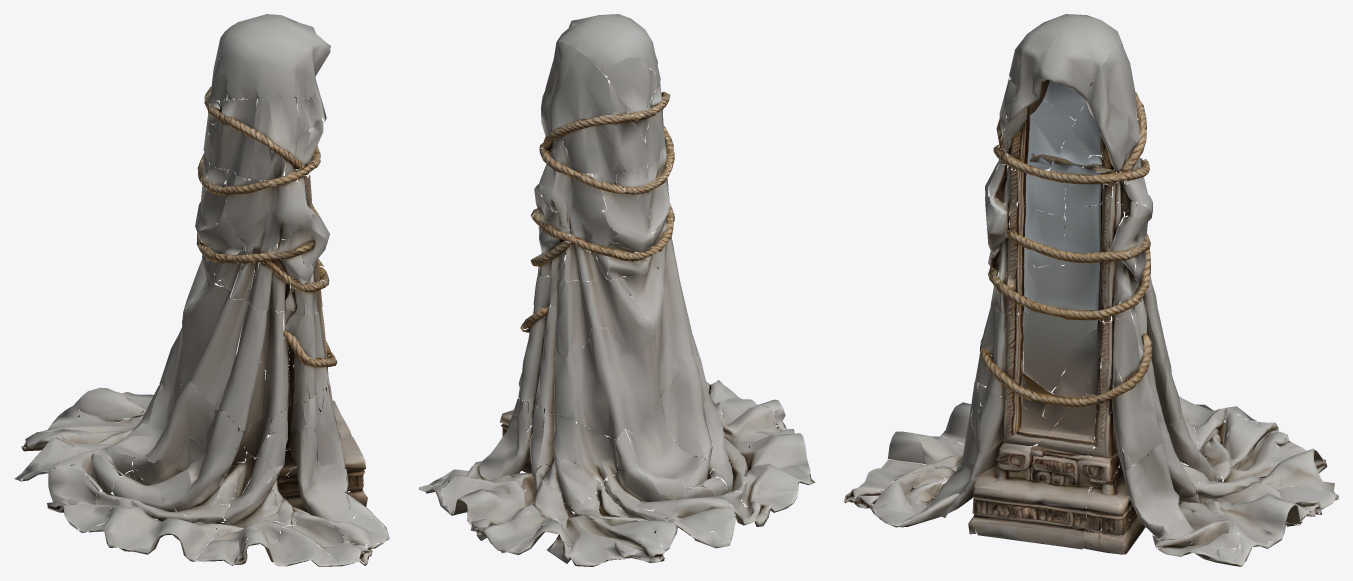
The model's file is shroud_a.glb.
3 views of the same model, side by side, from view 1: azimuth 30°, elevation 25°; view 2: azimuth 150°, elevation 25°; view 3: azimuth 270°, elevation 25° (orthographic). The views are drawn at different scales.
Visible parts, largest first — view 1: tripo_node_e4f2dbbe-06f9-4dea-ab70-920204412981; view 2: tripo_node_e4f2dbbe-06f9-4dea-ab70-920204412981; view 3: tripo_node_e4f2dbbe-06f9-4dea-ab70-920204412981.
Part boxes in pixels (<box>): tripo_node_e4f2dbbe-06f9-4dea-ab70-920204412981: <box>14,14,389,566</box>; tripo_node_e4f2dbbe-06f9-4dea-ab70-920204412981: <box>419,14,815,566</box>; tripo_node_e4f2dbbe-06f9-4dea-ab70-920204412981: <box>844,14,1338,566</box>.
Size of the model in its own units: 0.702 by 1 by 0.9197.
Materials: 1 (1 with a texture image).
